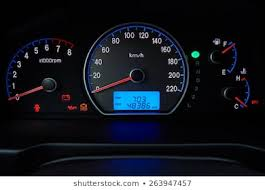Digital_Meter: (112, 90, 162, 111)
